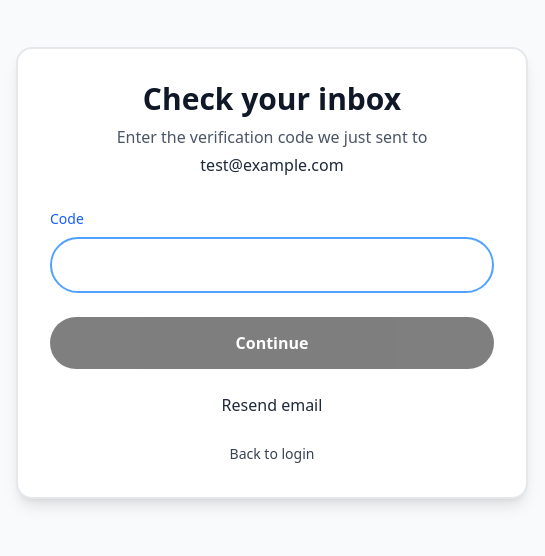
ValidateResetCodePage › shows api error message when verify fails
Type "123456" into the field labelled "Code".
click(272, 265); type("123456")  # box [50,237,494,293]
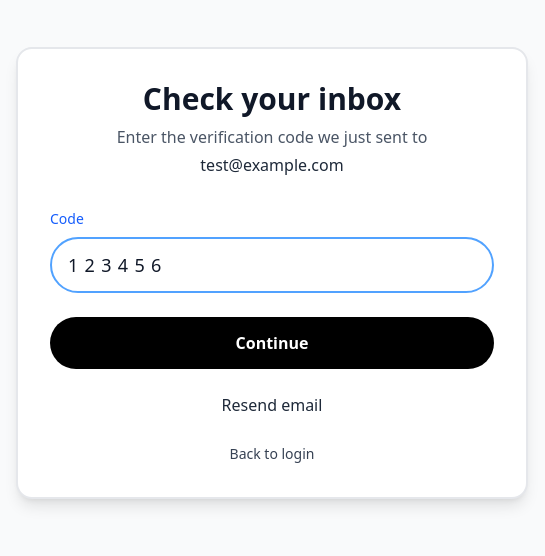
Click the button "Continue".
click(272, 343)  # box [50,317,494,369]
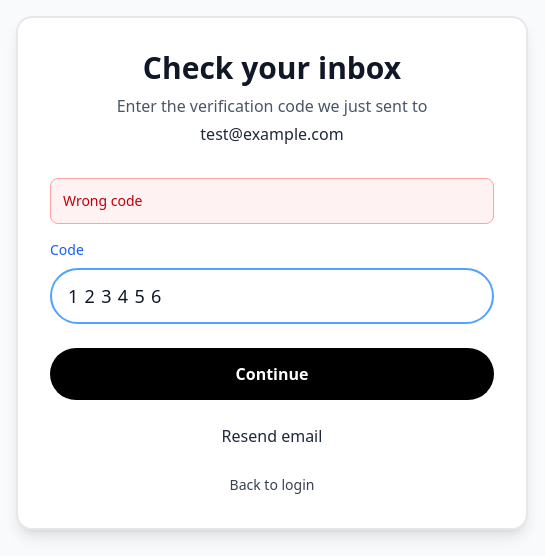
Expected: the text "Wrong code" is shown, [50,178,494,224]
